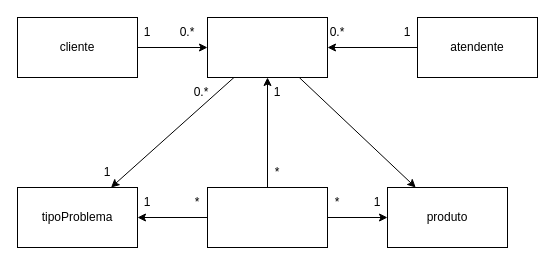
Some shapes in this 555 by 265 pixel diagram are drawn without their labels. The shapes that lost their labels are listed below. From the top down, each one's centre as x and y in pixels, then its label:
At point 267,47: "reclamacao".
At point 267,217: "registro".
